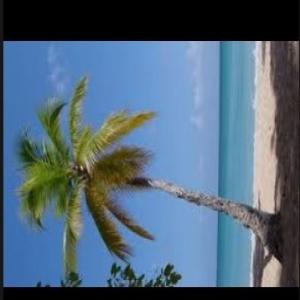palm tree: (13, 74, 157, 286)
